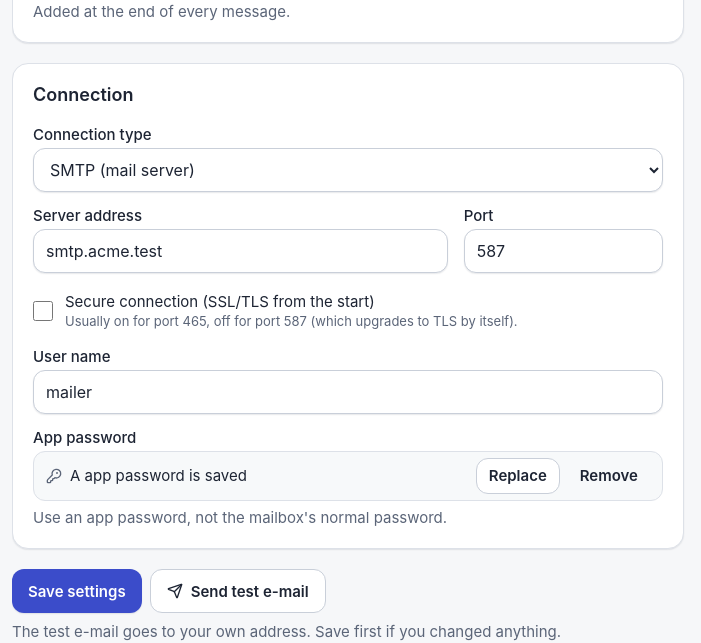
it: write-only secret field › never renders a value, and sends the password only when replaced
Later steps or results of the test are not shown.
(page scrolled)
Check: the text "A app password is saved" is shown, box [70,466,247,485]
Click the button "Save settings".
click(77, 591)  # box [12,569,142,613]
Click the button with aria-label "Replace app password".
click(518, 476)  # box [476,458,560,494]
(page scrolled)
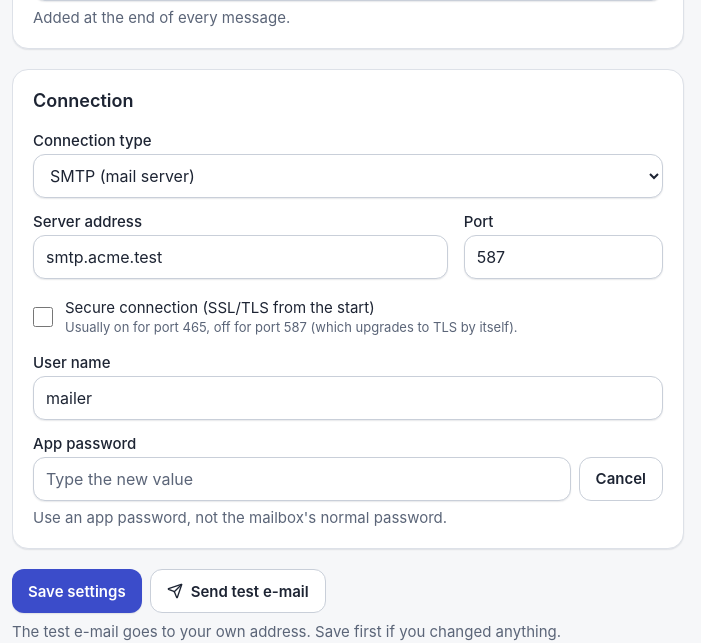
Check: the password field labelled "App password" is empty, box [33,457,571,501]
